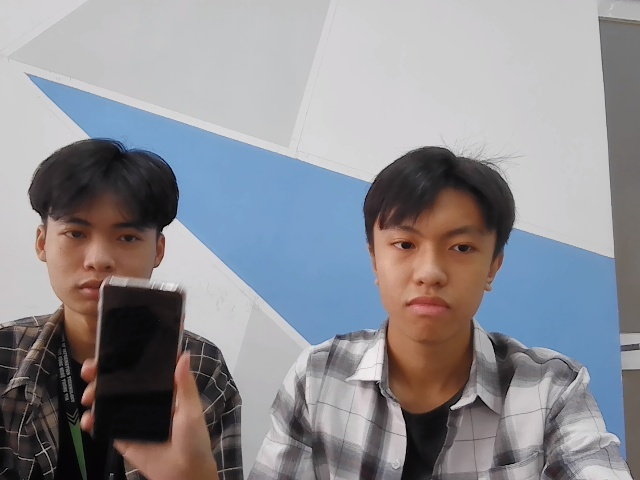human: (361, 148, 516, 341), (37, 142, 176, 322)
phone: (90, 281, 185, 448)
